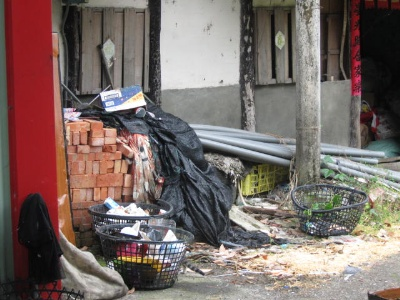box: (100, 86, 146, 114)
plastic_bag: (74, 94, 273, 249), (56, 227, 132, 299)
